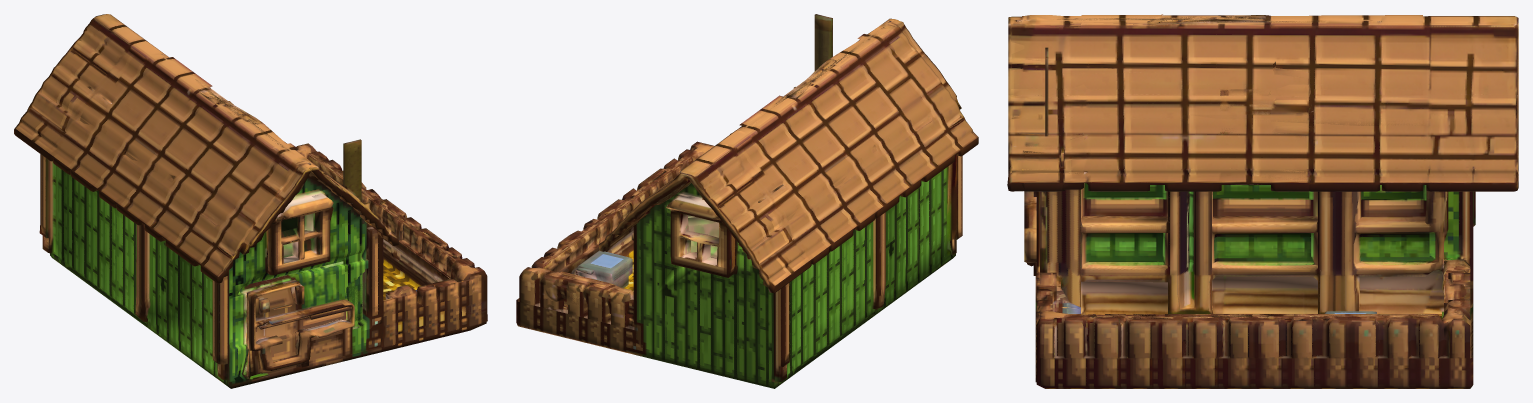
Rendered from coop.glb.
3 views of the same model, side by side, from view 1: azimuth 30°, elevation 25°; view 2: azimuth 150°, elevation 25°; view 3: azimuth 270°, elevation 25° (orthographic). The views are drawn at different scales.
Size of the model in its own units: 1.45 by 1.06 by 1.91.
1 material, 1 textured.
